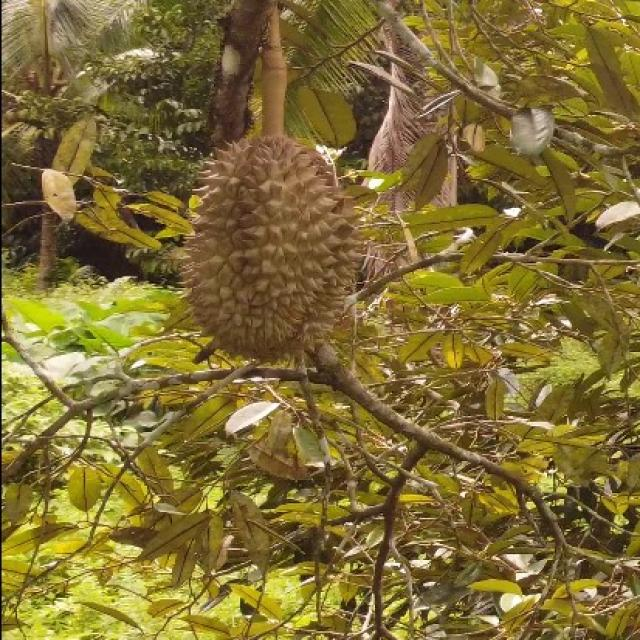mature: (179, 126, 360, 358)
